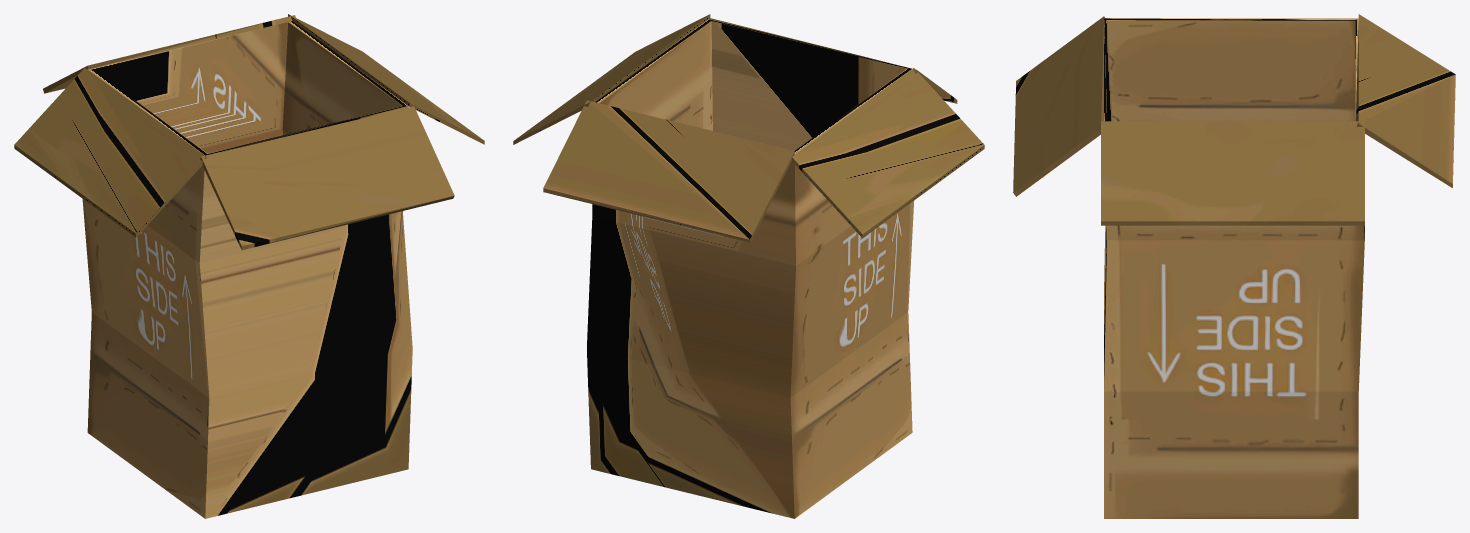
3 renders of one model, left to right at view 1: azimuth 30°, elevation 25°; view 2: azimuth 150°, elevation 25°; view 3: azimuth 270°, elevation 25°, orthographic. The views are drawn at different scales.
Visible parts, largest first — view 1: Box; view 2: Box; view 3: Box.
Part boxes in pixels (x1,y1,x2,y2): Box: (14,14,484,518); Box: (513,14,984,518); Box: (1013,14,1455,518).
Bounding box in the file's own units: 286 × 288 × 290.
1 material, 1 textured.
